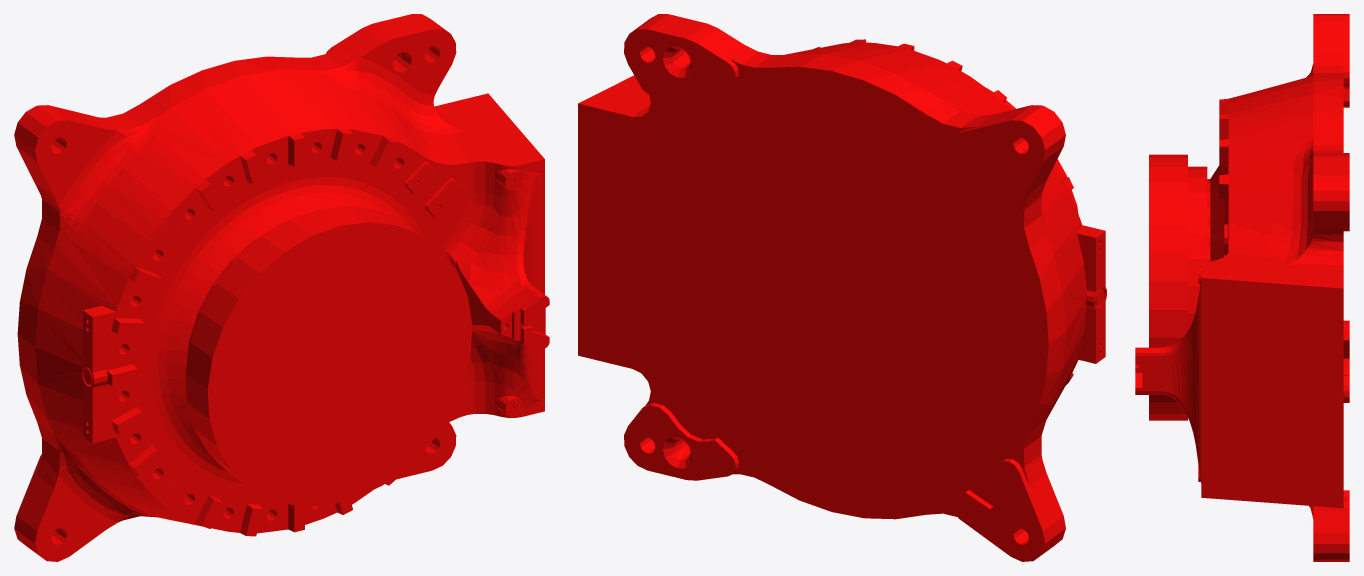
3 views of the same model, side by side, from view 1: azimuth 30°, elevation 25°; view 2: azimuth 150°, elevation 25°; view 3: azimuth 270°, elevation 25° (orthographic). The views are drawn at different scales.
Parts seen in each view (by area): view 1: base_link; view 2: base_link; view 3: base_link.
Part boxes in pixels (x1=…): base_link: x1=14, y1=14, x2=549, y2=561; base_link: x1=578, y1=14, x2=1106, y2=561; base_link: x1=1135, y1=14, x2=1349, y2=561.
Size of the model in its own units: 0.7814 by 0.7 by 0.354.
